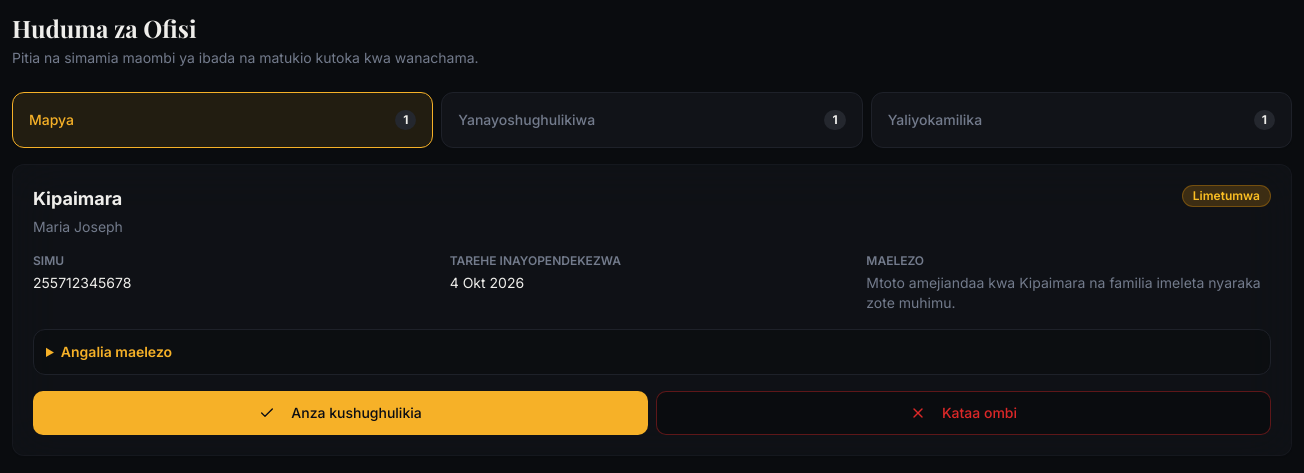
Scenario: Wave 25 office services UX › renders working status tabs and responsive request cards with sacramental labels
The image size is (1304, 473).
Press the mouse on the tab "Yanayoshughulikiwa 1" at x=527, y=120, box [441,92,863,148]
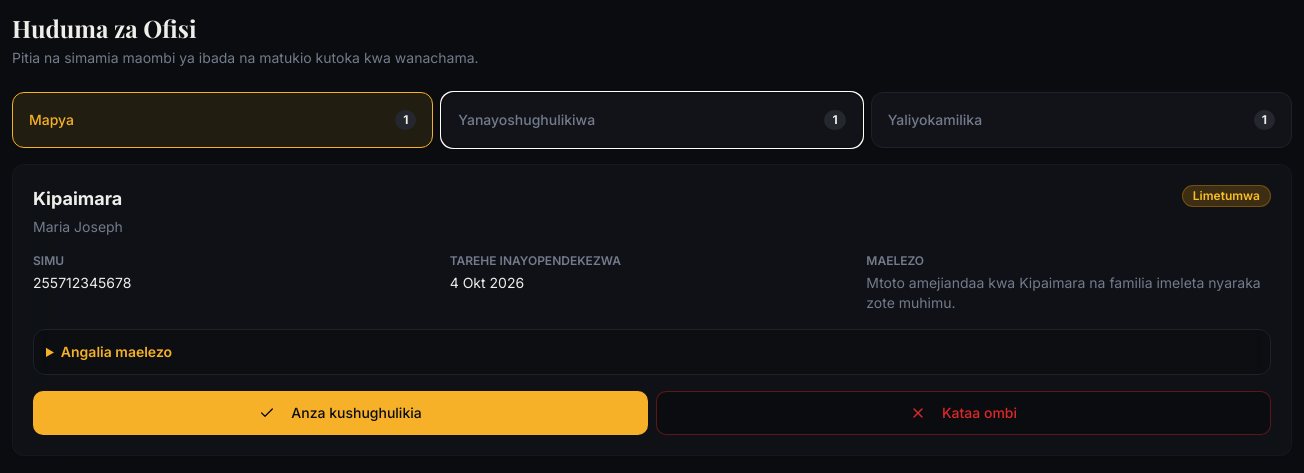
Click the tab "Yanayoshughulikiwa 1" at x=527, y=120, box [441,92,863,148]
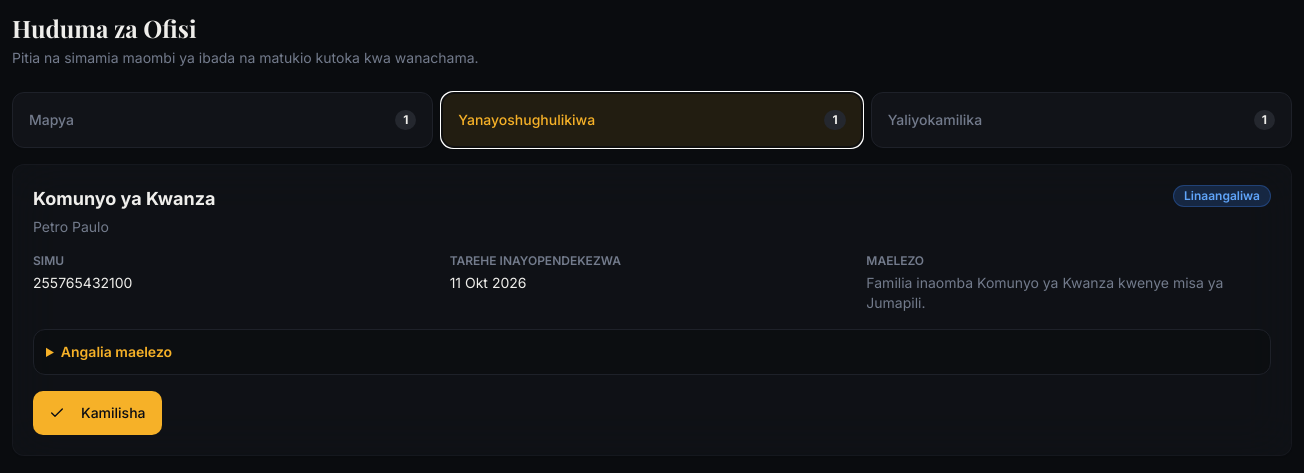
Check: the text "Komunyo ya Kwanza" is shown, box [33,185,216,213]
Check: the text "Petro Paulo" is shown, box [33,218,109,235]
Check: the text "Kamilisha" is shown, box [33,391,162,435]
Press the mouse on the tab "Yaliyokamilika 1" at x=935, y=120, box [871,92,1292,148]
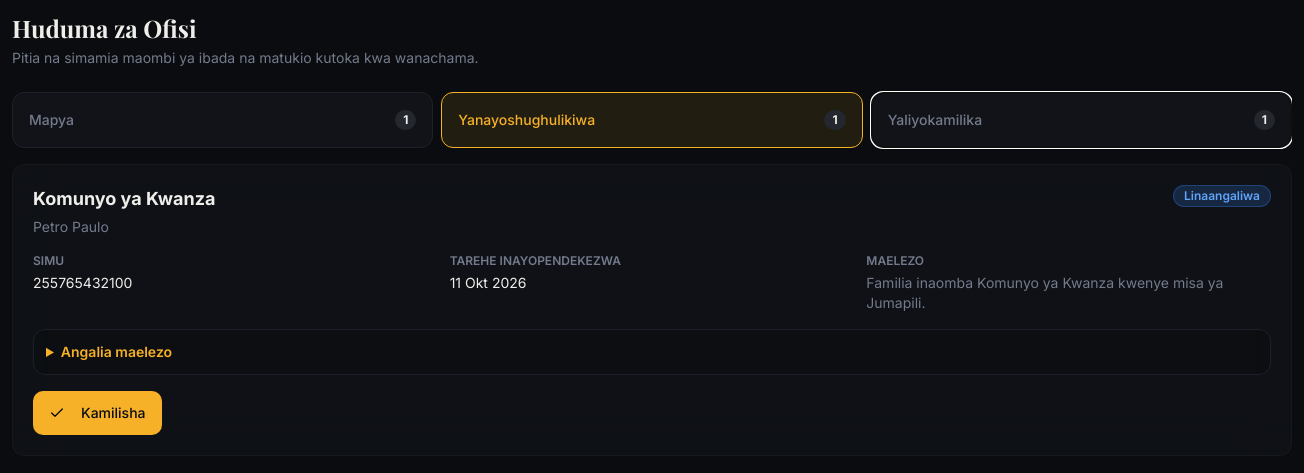
Click the tab "Yaliyokamilika 1" at x=935, y=120, box [871,92,1292,148]
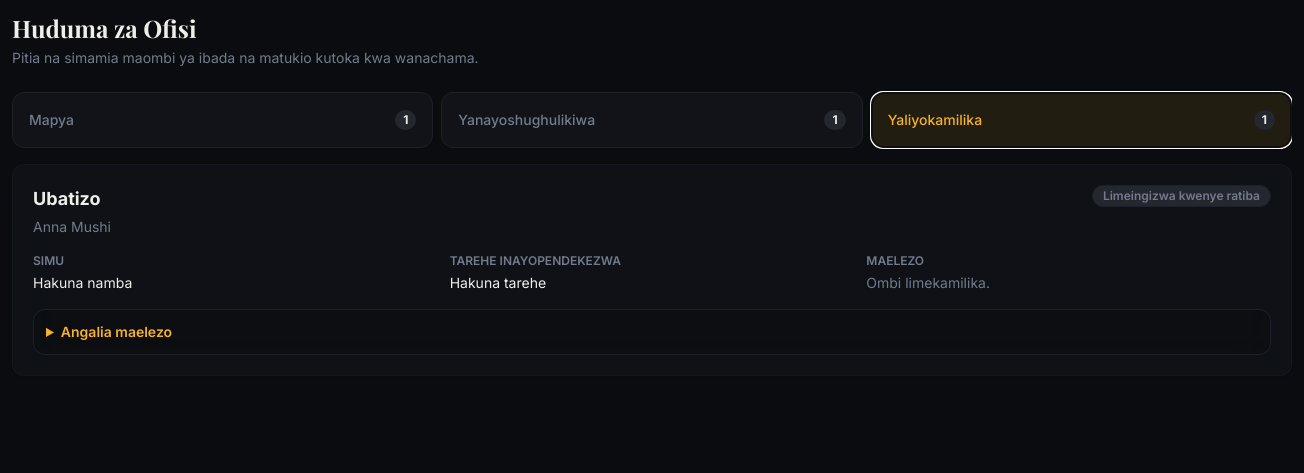
Check: the text "Ubatizo" is shown, box [33,185,111,213]
Check: the text "Kamilisha" is gone
